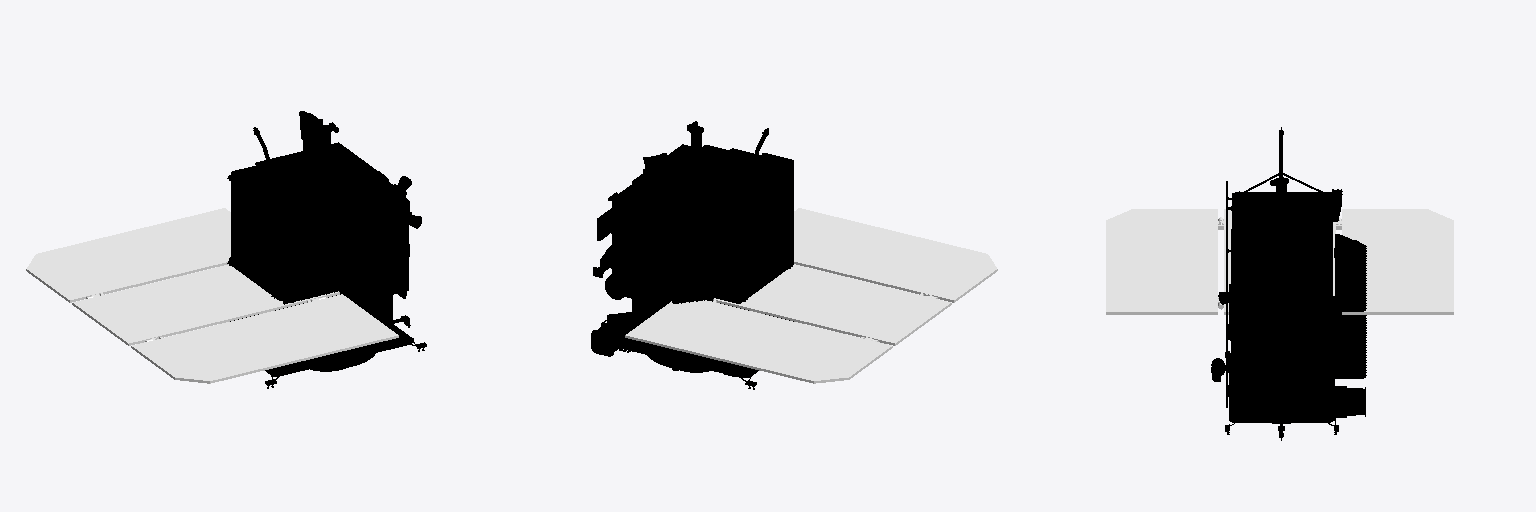
Rendered from LRO-label-solar_panel.obj.
3 renders of one model, left to right at view 1: azimuth 30°, elevation 25°; view 2: azimuth 150°, elevation 25°; view 3: azimuth 270°, elevation 25°, orthographic.
Parts seen in each view (by area): view 1: LRO-label-solar_panel; view 2: LRO-label-solar_panel; view 3: LRO-label-solar_panel.
Part boxes in pixels (left/top/right/bottom): LRO-label-solar_panel: left=26, top=111, right=426, bottom=388; LRO-label-solar_panel: left=591, top=121, right=997, bottom=389; LRO-label-solar_panel: left=1106, top=127, right=1453, bottom=440.
Bounding box in the file's own units: 1.19 × 0.9417 × 1.16.